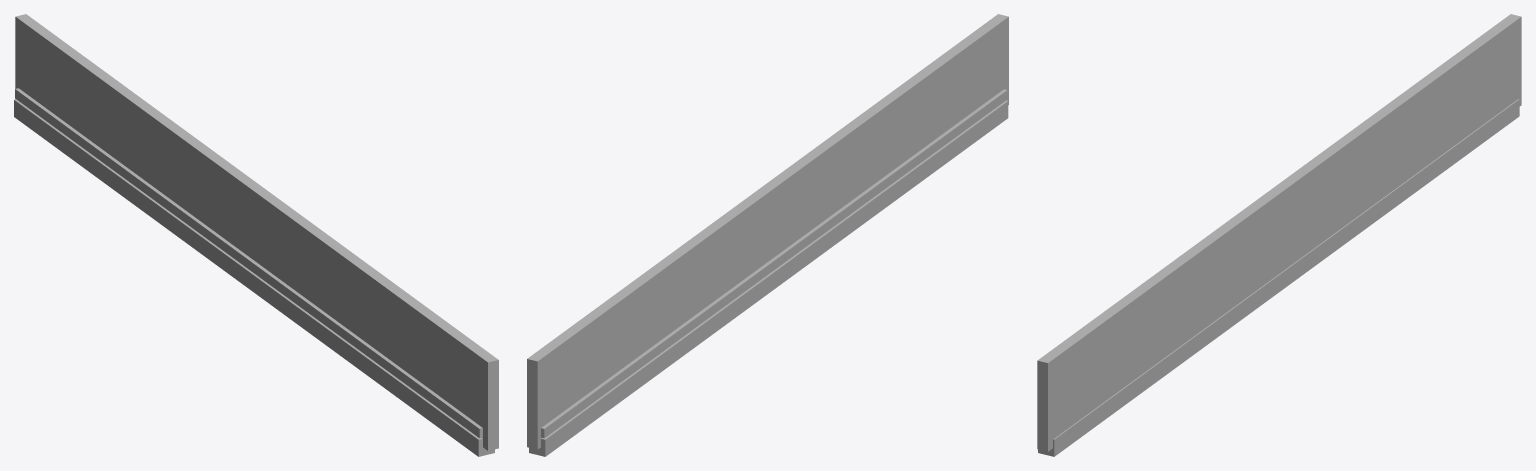
The model's file is window_wood.fbx.
3 renders of one model, left to right at view 1: azimuth 30°, elevation 25°; view 2: azimuth 150°, elevation 25°; view 3: azimuth 330°, elevation 25°, orthographic.
Visible parts, largest first — view 1: window_wood; view 2: window_wood; view 3: window_wood.
Part boxes in pixels (bbox=[...]): window_wood: bbox=[14, 14, 498, 456]; window_wood: bbox=[527, 14, 1008, 456]; window_wood: bbox=[1037, 14, 1521, 456].
Size of the model in its own units: 5 by 28.23 by 249.
